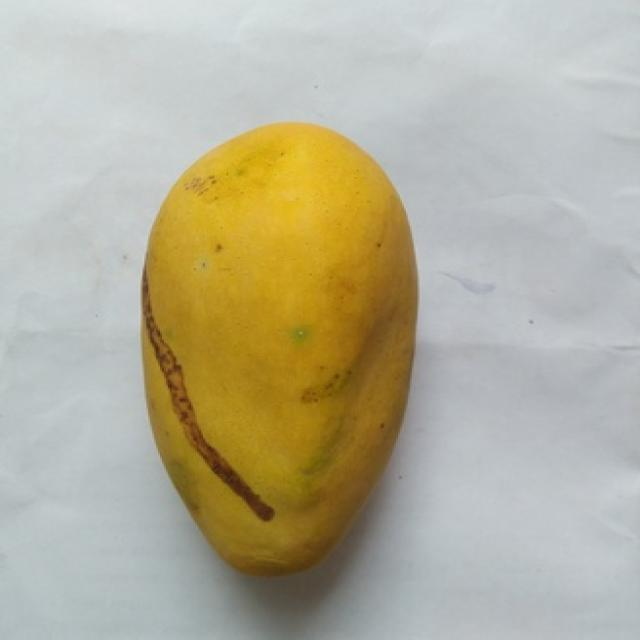Mango: (142, 123, 416, 573)
